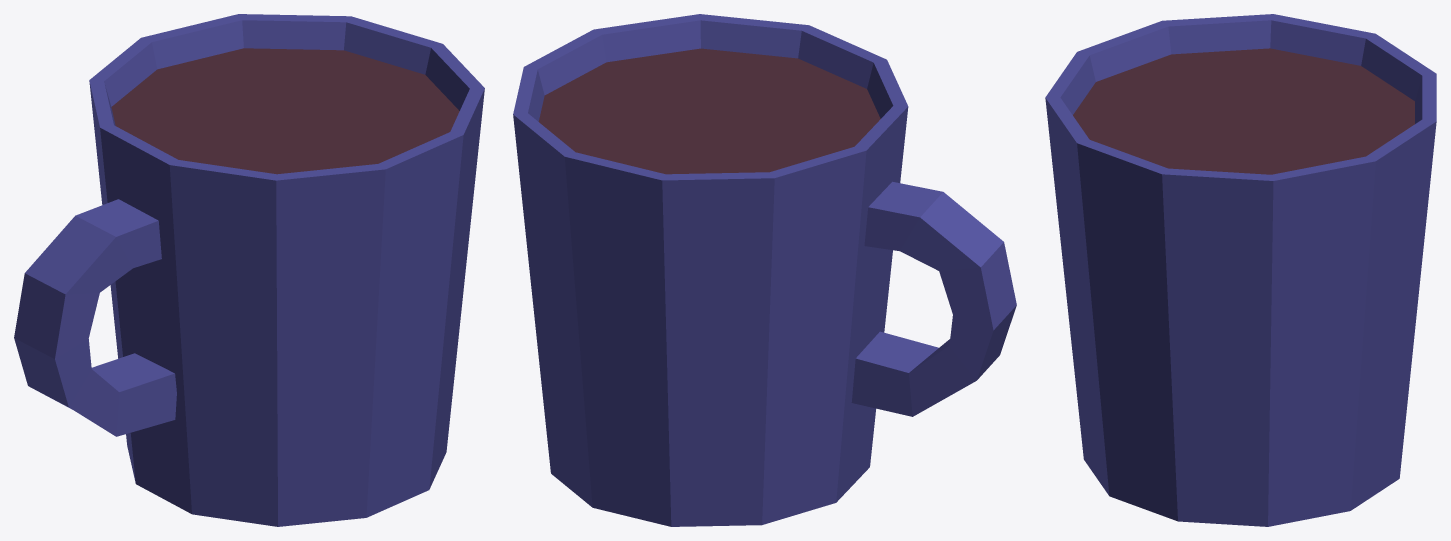
The model's file is coffeeeeemugwithCOFFEEEEE.fbx.
3 renders of one model, left to right at view 1: azimuth 30°, elevation 25°; view 2: azimuth 150°, elevation 25°; view 3: azimuth 270°, elevation 25°, orthographic.
Parts seen in each view (by area): view 1: Cylinder; view 2: Cylinder; view 3: Cylinder.
Boxes of the visible parts, x1,y1,x2,y2 form: Cylinder: (14,14,484,526); Cylinder: (513,14,1016,526); Cylinder: (1045,14,1436,526).
Bounding box in the file's own units: 14.43 × 11.12 × 10.89.
